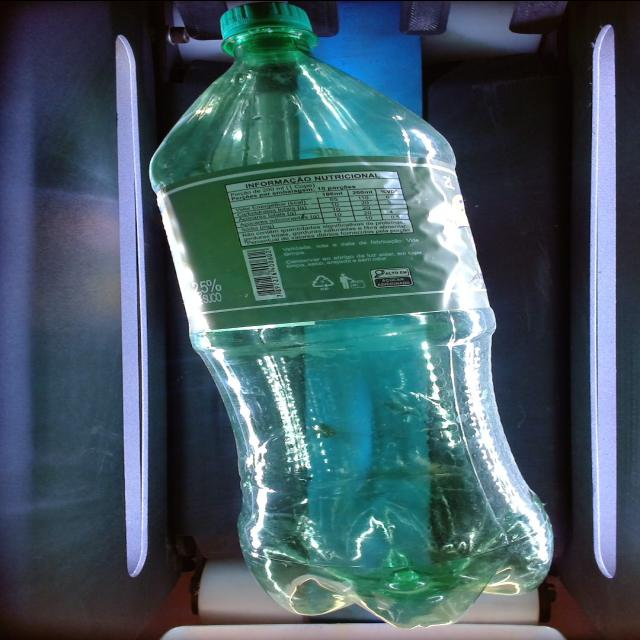bottom: (246, 502, 565, 631)
cap: (196, 0, 328, 62)
code: (238, 241, 284, 305)
